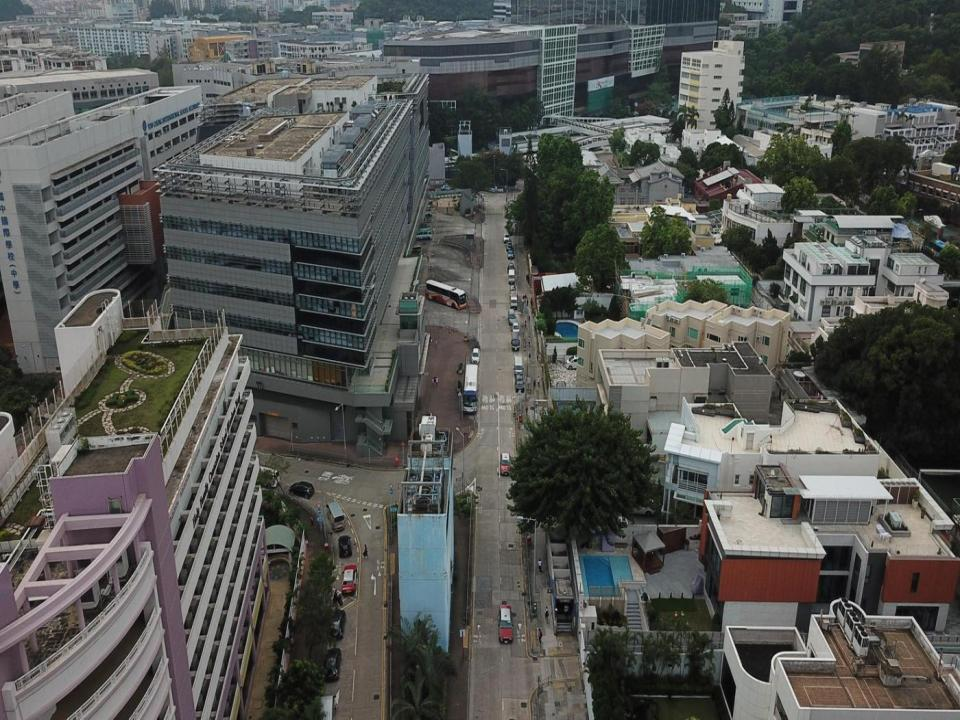bus: (426, 278, 467, 310), (250, 463, 281, 489), (463, 363, 478, 415), (411, 227, 432, 240)
car: (498, 602, 514, 644), (329, 612, 348, 642), (324, 647, 340, 680), (288, 480, 314, 498), (342, 564, 357, 595), (338, 534, 352, 558), (502, 453, 510, 473), (516, 373, 524, 391), (471, 347, 479, 362), (440, 184, 451, 191), (505, 240, 512, 250), (507, 262, 514, 272), (512, 322, 519, 332), (503, 230, 509, 241), (422, 185, 434, 190), (507, 250, 514, 258), (509, 284, 515, 292)
van: (325, 500, 346, 532), (511, 331, 520, 351), (514, 356, 522, 375), (510, 291, 517, 308), (508, 269, 516, 282), (509, 309, 515, 323)
